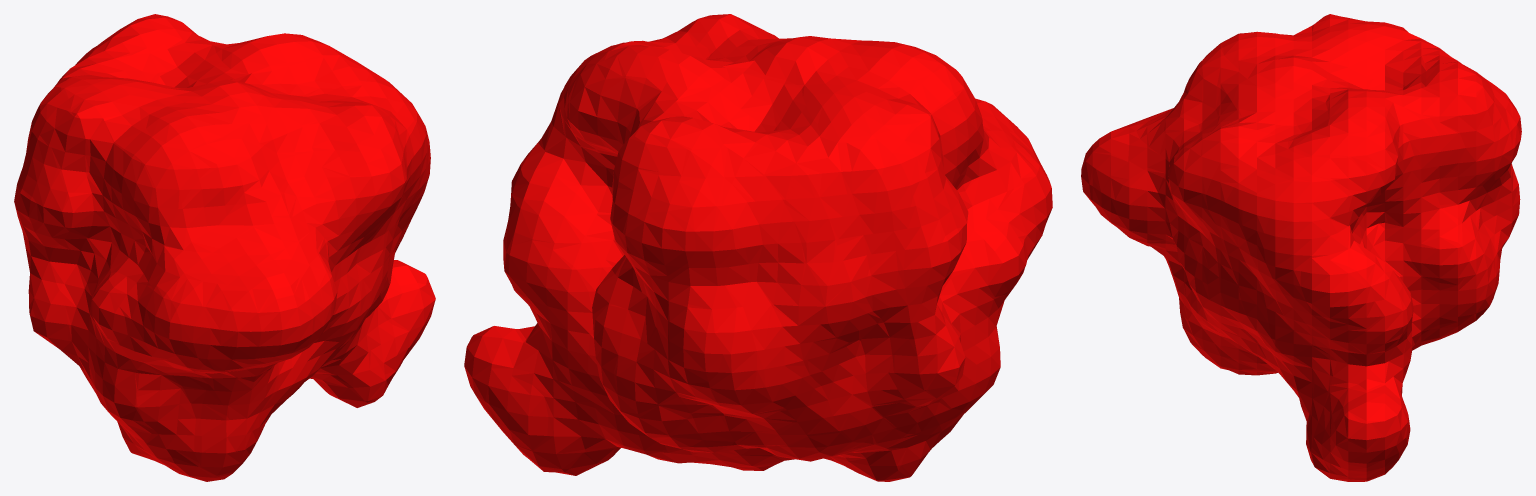
File: fbaB_coarse.dae
3 renders of one model, left to right at view 1: azimuth 30°, elevation 25°; view 2: azimuth 150°, elevation 25°; view 3: azimuth 270°, elevation 25°, orthographic. The views are drawn at different scales.
Parts seen in each view (by area): view 1: fbaB; view 2: fbaB; view 3: fbaB.
Part boxes in pixels (<box>): fbaB: <box>14,14,435,481</box>; fbaB: <box>464,14,1052,481</box>; fbaB: <box>1081,14,1521,481</box>.
Bounding box in the file's own units: 58.3 × 50.92 × 58.78.
